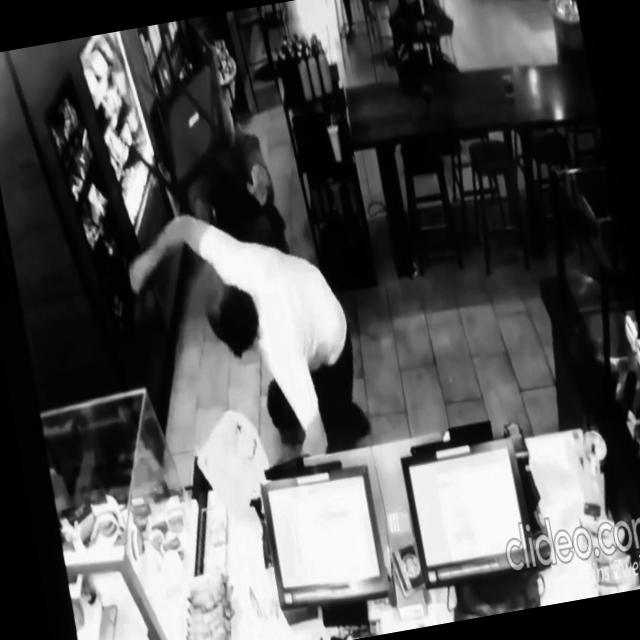person: (116, 182, 374, 482), (172, 81, 294, 282), (334, 0, 380, 45)
